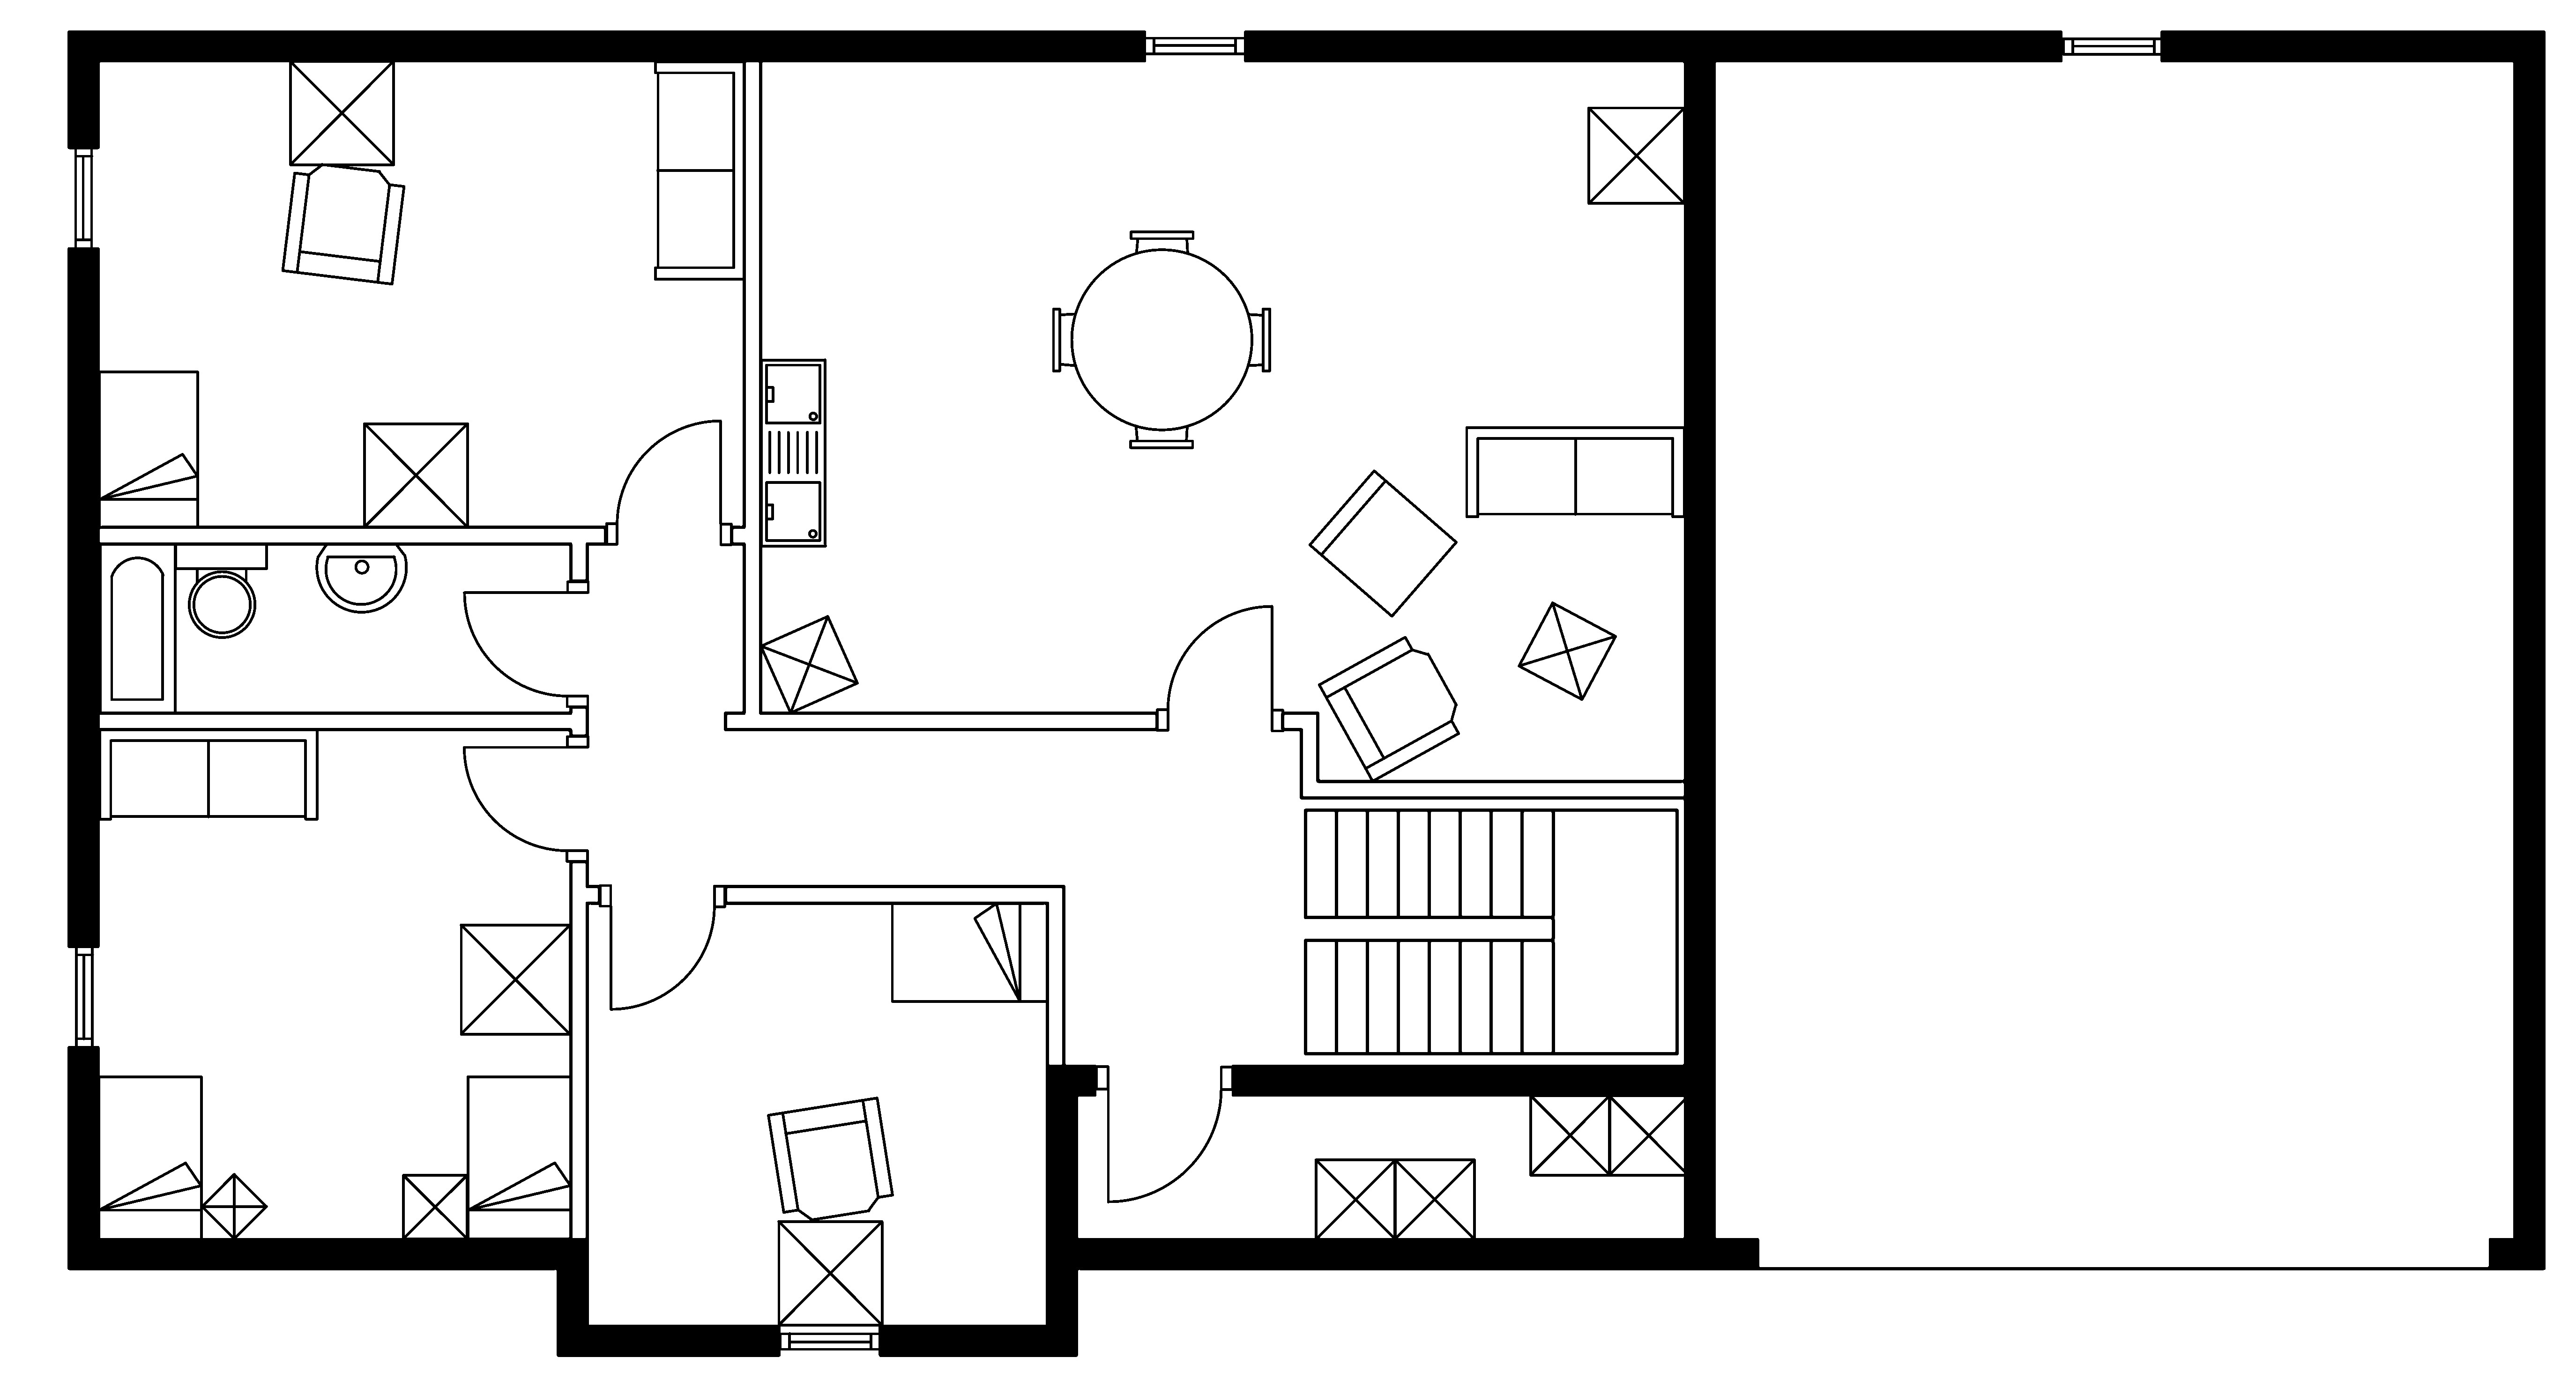armchair: (1317, 635, 1461, 782), (765, 1095, 895, 1221), (280, 162, 407, 285)
bed: (96, 1074, 203, 1240), (465, 1074, 572, 1240), (97, 369, 200, 530), (890, 900, 1049, 1003)
coffee_table: (458, 922, 572, 1035), (362, 422, 470, 530), (287, 58, 395, 166), (776, 1220, 883, 1327), (1517, 600, 1618, 702), (758, 613, 859, 714), (1587, 106, 1686, 205), (1527, 1093, 1613, 1177), (1392, 1156, 1476, 1240), (1607, 1093, 1691, 1177), (1314, 1156, 1397, 1240), (200, 1172, 268, 1240), (401, 1172, 470, 1240)
large_sink: (173, 541, 268, 639)
large_sofa: (1464, 425, 1686, 519), (653, 60, 746, 282), (97, 728, 319, 820)
round_table: (1051, 229, 1271, 449)
small_sink: (316, 541, 407, 613)
small_sofa: (1307, 468, 1459, 618)
tub: (97, 541, 178, 714)
twin_sink: (758, 357, 827, 548)
